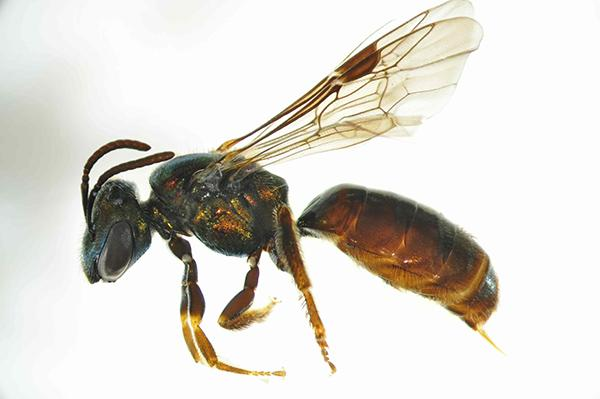Braunsapis: (73, 1, 509, 376)
